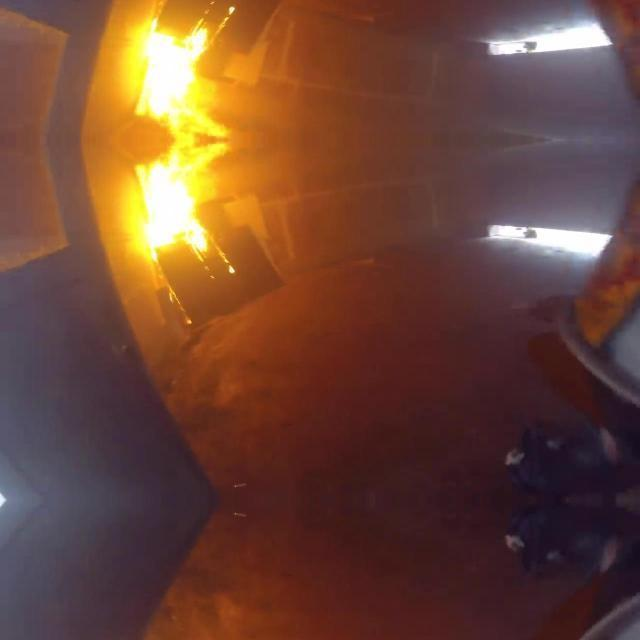smoke: (134, 140, 226, 262), (134, 19, 226, 140)
